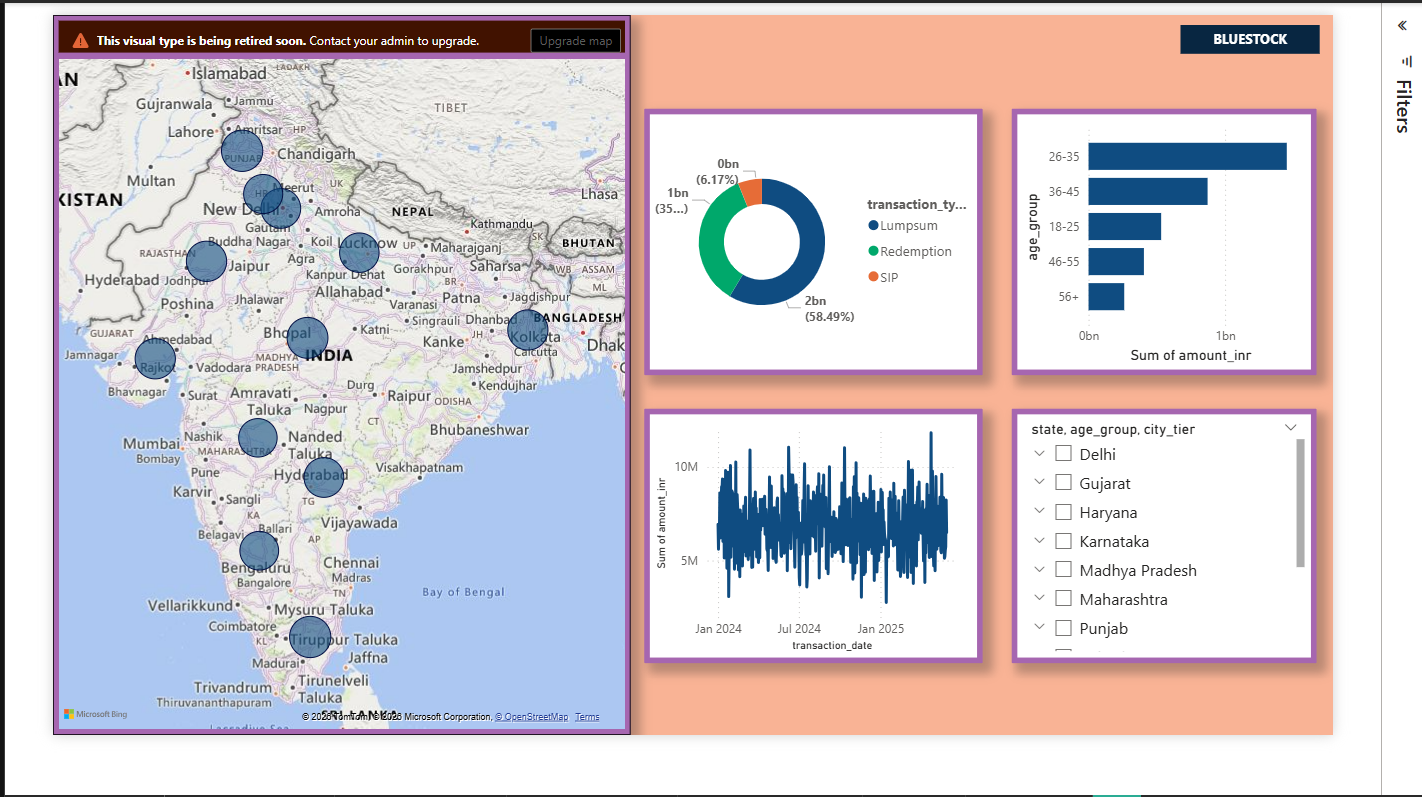

The dashboard page shown, as its layout file describes it:
{"tool":"powerbi","page":{"name":"Investor Analytics","canvas":[1280,720],"ordinal":2},"visuals":[{"type":"map","fields":{"Category":["investor_transactions_clean.state"],"Size":["Sum(investor_transactions_clean.amount_inr)"]},"box":[0,0,577.9,719.8],"z":0},{"type":"donutChart","fields":{"Y":["Sum(investor_transactions_clean.amount_inr)"],"Category":["investor_transactions_clean.transaction_type"]},"box":[591.9,94.2,338.4,266.3],"z":1000},{"type":"clusteredBarChart","fields":{"Y":["Sum(investor_transactions_clean.amount_inr)"],"Category":["investor_transactions_clean.age_group"]},"box":[958.1,94.2,304.7,266.3],"z":2000},{"type":"lineChart","fields":{"Y":["Sum(investor_transactions_clean.amount_inr)"],"Category":["investor_transactions_clean.transaction_date"]},"box":[590.7,394.2,338.4,254.7],"z":3000},{"type":"slicer","fields":{"Values":["investor_transactions_clean.state","investor_transactions_clean.age_group","investor_transactions_clean.city_tier"]},"box":[958.1,394.2,304.7,254.7],"z":4000},{"type":"textbox","box":[1127.9,10.5,139.5,29.1],"z":5000}]}

Visuals, with their boxes on the page's 1280x720 design canvas (x1, y1, x2, y2). These are canvas units, not pixel positions in the 1422x797 screenshot, which may show the page scaled, cropped or inside an application window:
map - investor_transactions_clean.state x Sum(investor_transactions_clean.amount_inr): (left=0, top=0, right=578, bottom=720)
donutChart - Sum(investor_transactions_clean.amount_inr) x investor_transactions_clean.transaction_type: (left=592, top=94, right=930, bottom=360)
clusteredBarChart - Sum(investor_transactions_clean.amount_inr) x investor_transactions_clean.age_group: (left=958, top=94, right=1263, bottom=360)
lineChart - Sum(investor_transactions_clean.amount_inr) x investor_transactions_clean.transaction_date: (left=591, top=394, right=929, bottom=649)
slicer - investor_transactions_clean.state x investor_transactions_clean.age_group: (left=958, top=394, right=1263, bottom=649)
textbox: (left=1128, top=10, right=1267, bottom=40)
